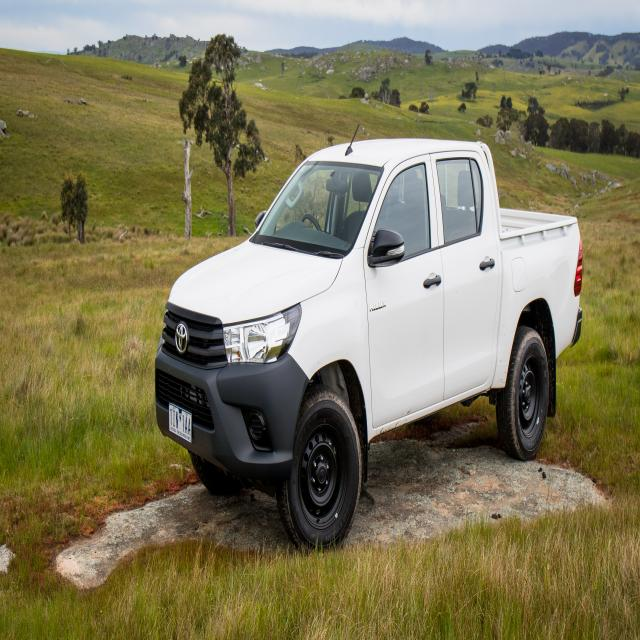light_vehicle: (153, 140, 585, 564)
